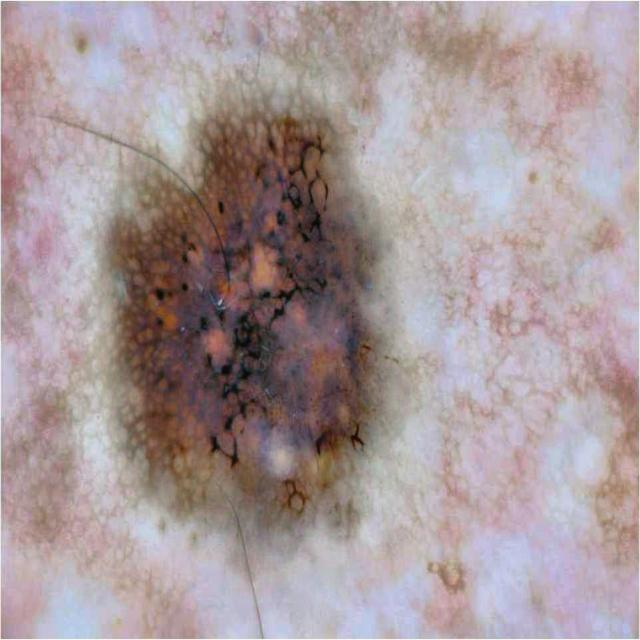Melanocytic-Nevi-NV-: (5, 8, 636, 635)
